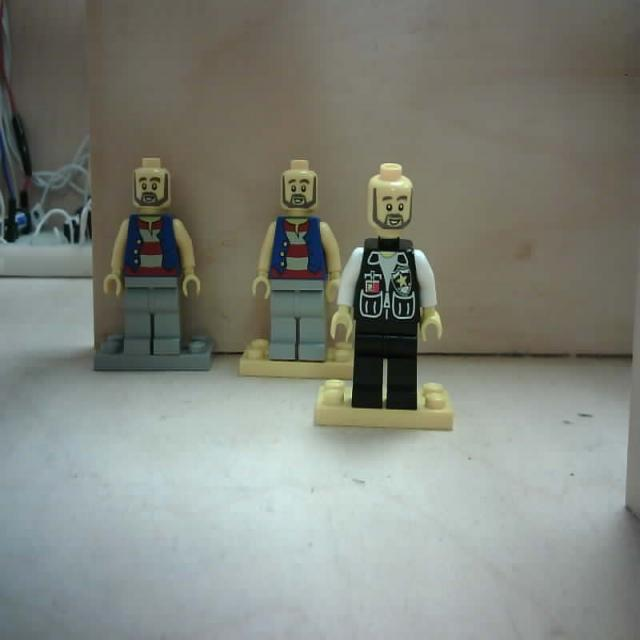Lego-People: (315, 162, 454, 432), (88, 143, 218, 376), (238, 136, 355, 380)
